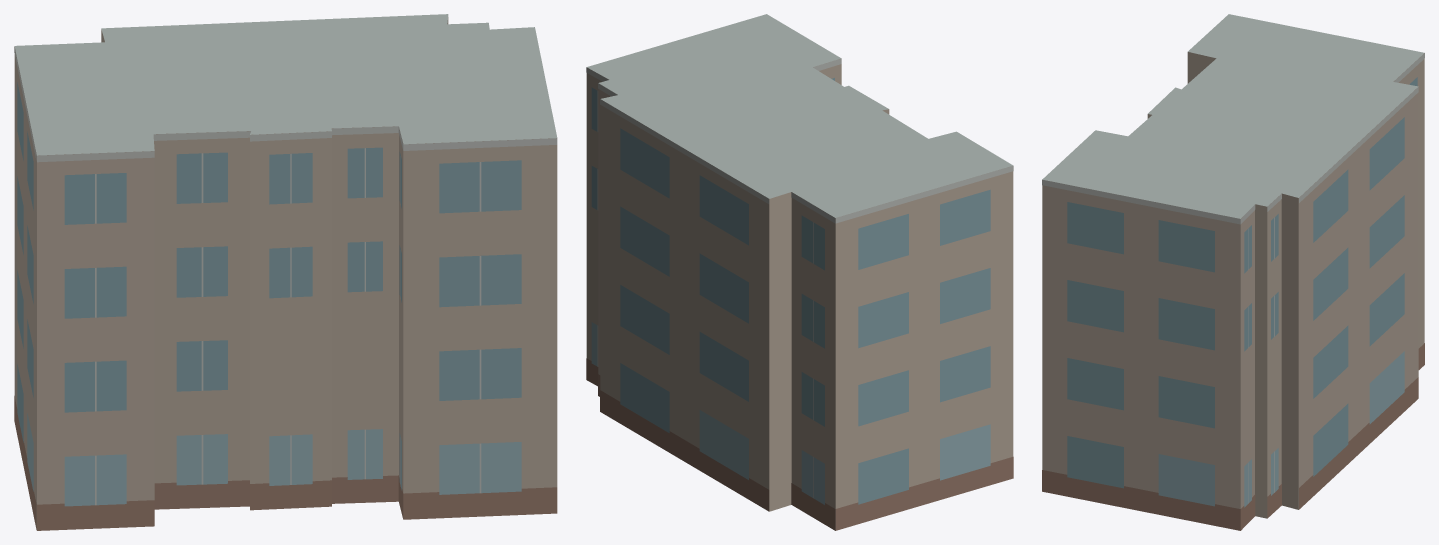
File: survey-upis-32553108.glb
3 renders of one model, left to right at view 1: azimuth 30°, elevation 25°; view 2: azimuth 150°, elevation 25°; view 3: azimuth 270°, elevation 25°, orthographic. The views are drawn at different scales.
Parts seen in each view (by area): view 1: survey-upis-32553108.tmp; view 2: survey-upis-32553108.tmp; view 3: survey-upis-32553108.tmp.
Part boxes in pixels (bbox=[...]): survey-upis-32553108.tmp: bbox=[14, 14, 557, 530]; survey-upis-32553108.tmp: bbox=[586, 14, 1013, 530]; survey-upis-32553108.tmp: bbox=[1042, 14, 1424, 530].
Size of the model in its own units: 19.16 by 13.6 by 15.13.
